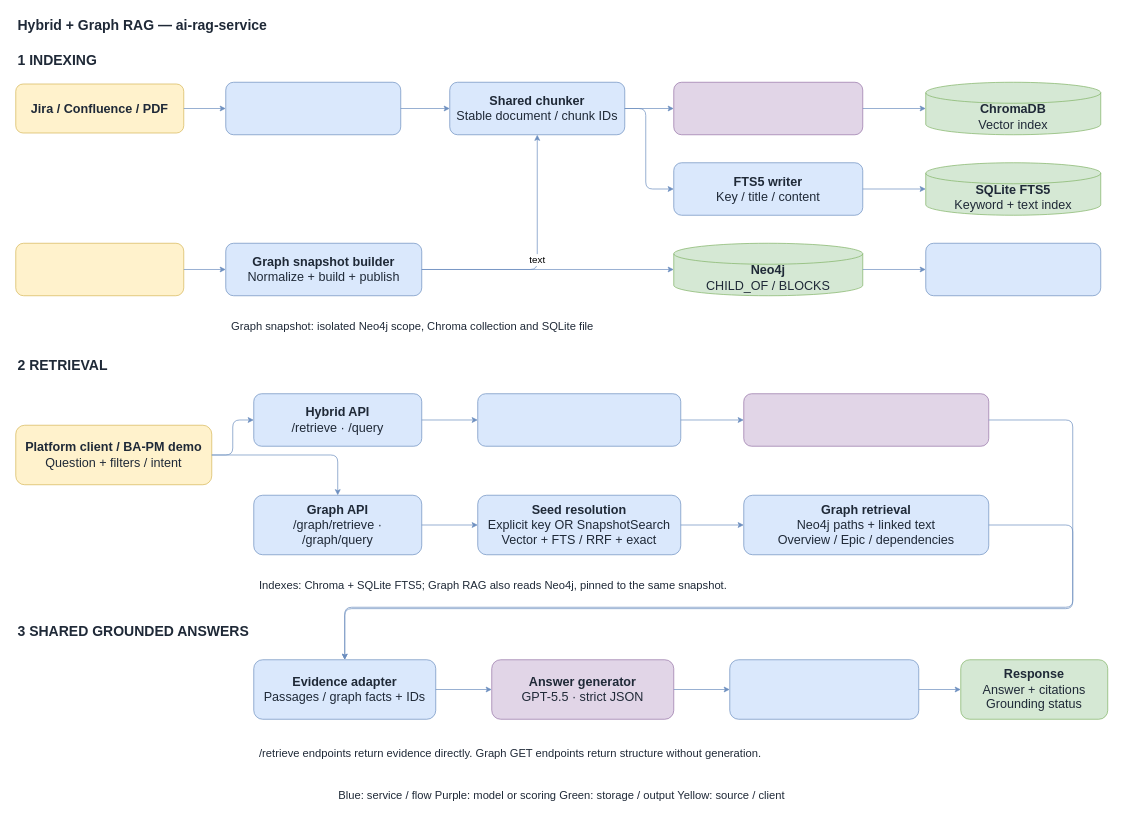
The diagram is 1123 pixels wide and 818 high, and some of its shapes have lost their labels. Each missing label, with the box of its shape:
Active manifest Publish when 3 stores ready: (925, 243, 1101, 296)
Citation validator Evidence IDs + source URLs: (729, 659, 919, 719)
Connector adapters Canonical documents: (225, 82, 401, 135)
Hybrid retrieval Exact + vector + BM25 → RRF: (477, 393, 681, 446)
Jira AIPLAT Issues + parent + links: (15, 243, 184, 296)
OpenAI embedder text-embedding-3-small: (673, 82, 863, 135)
Rerank + evidence selection Optional GPT-5.5 / Qwen3: (743, 393, 989, 446)
